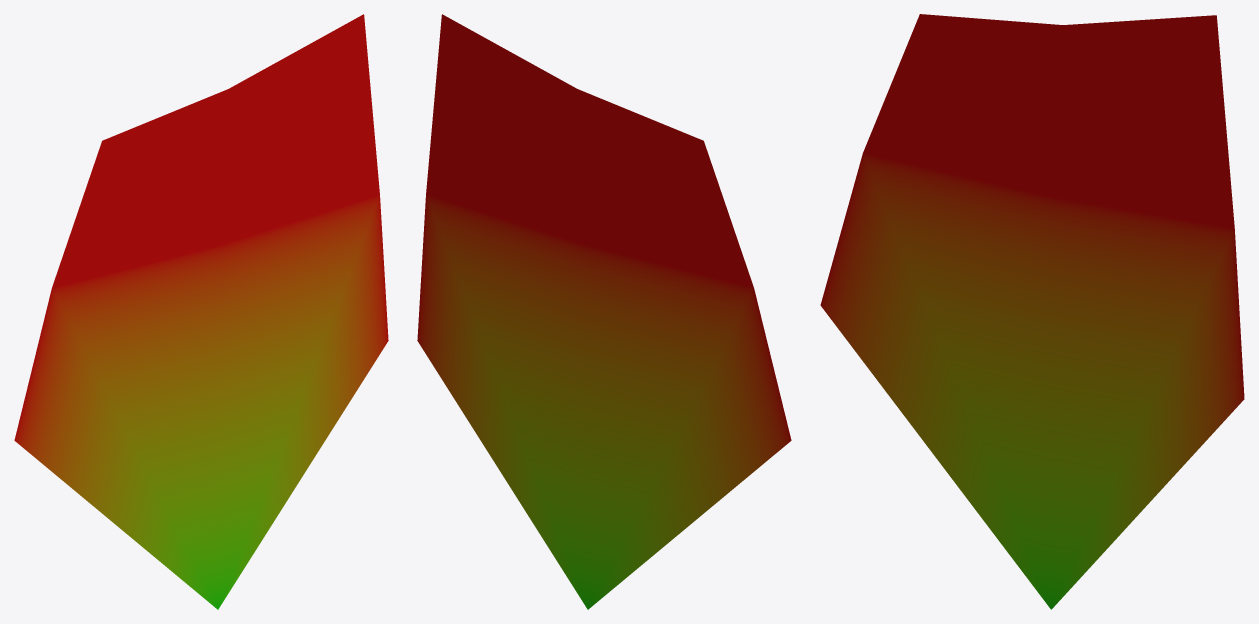
File: Rose Hip_LOD5_Var10.fbx
3 views of the same model, side by side, from view 1: azimuth 30°, elevation 25°; view 2: azimuth 150°, elevation 25°; view 3: azimuth 330°, elevation 25° (orthographic). The views are drawn at different scales.
Visible parts, largest first — view 1: _tp7i_Var10_LOD5; view 2: _tp7i_Var10_LOD5; view 3: _tp7i_Var10_LOD5.
Part boxes in pixels (left/top/right/bottom): _tp7i_Var10_LOD5: left=14, top=14, right=388, bottom=609; _tp7i_Var10_LOD5: left=417, top=14, right=791, bottom=609; _tp7i_Var10_LOD5: left=820, top=14, right=1244, bottom=609.
Bounding box in the file's own units: 74.56 × 107 × 1.22e-08.
